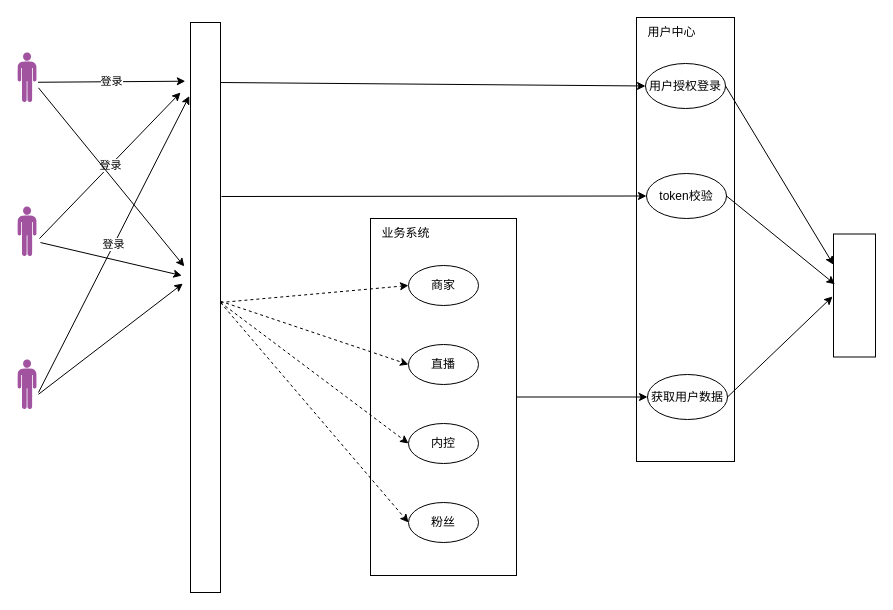
The diagram is 893 pixels wide and 610 high, and some of its shapes have lost their labels. Each missing label, with the box of its shape:
缓存: (832, 233, 876, 357)
网 关 认 证: (190, 22, 220, 592)
